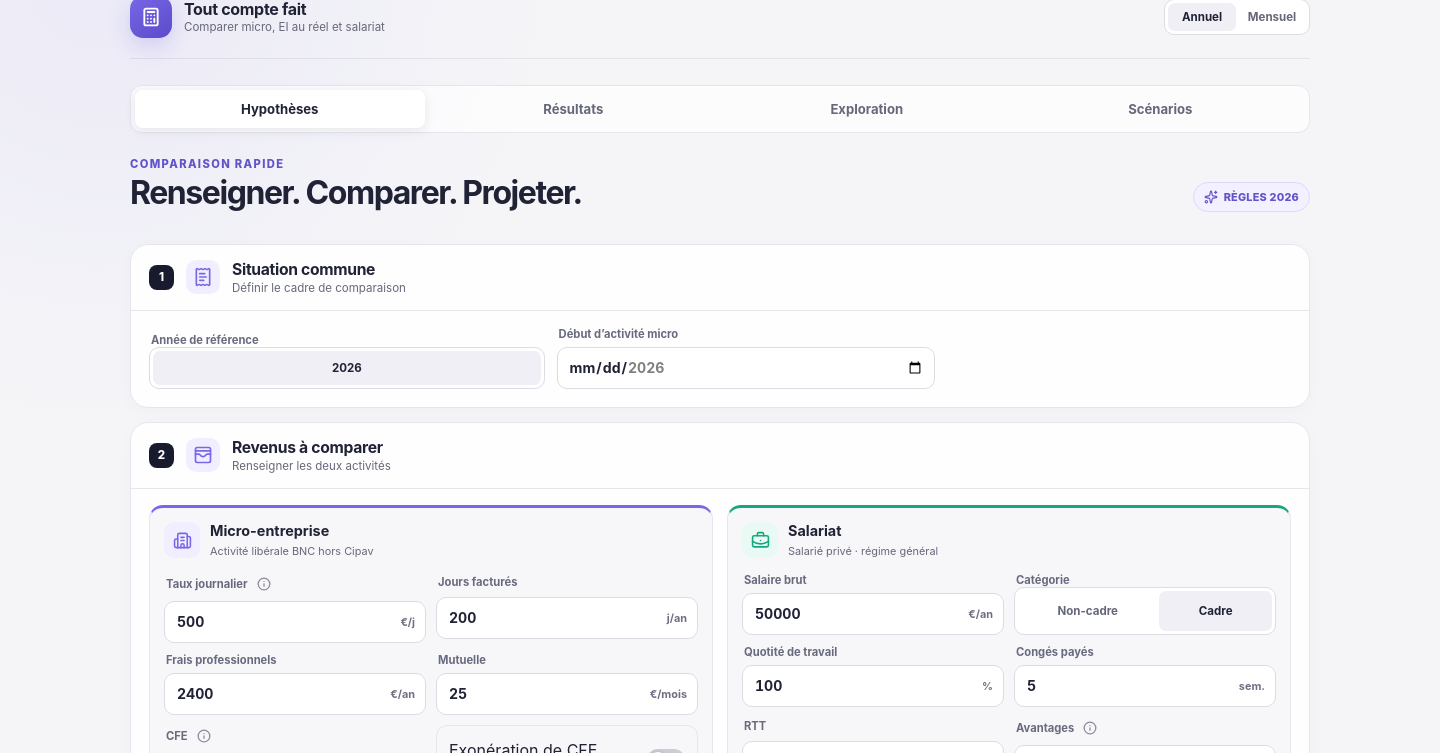
Test: Navigation guidée puis libre › ne substitue pas le dernier scénario valide à une saisie TJM sous-centime
Replace the text in the number field labelled "Taux journalier" with "0.001" at (285, 622), box [175, 612, 394, 631]
(page scrolled)
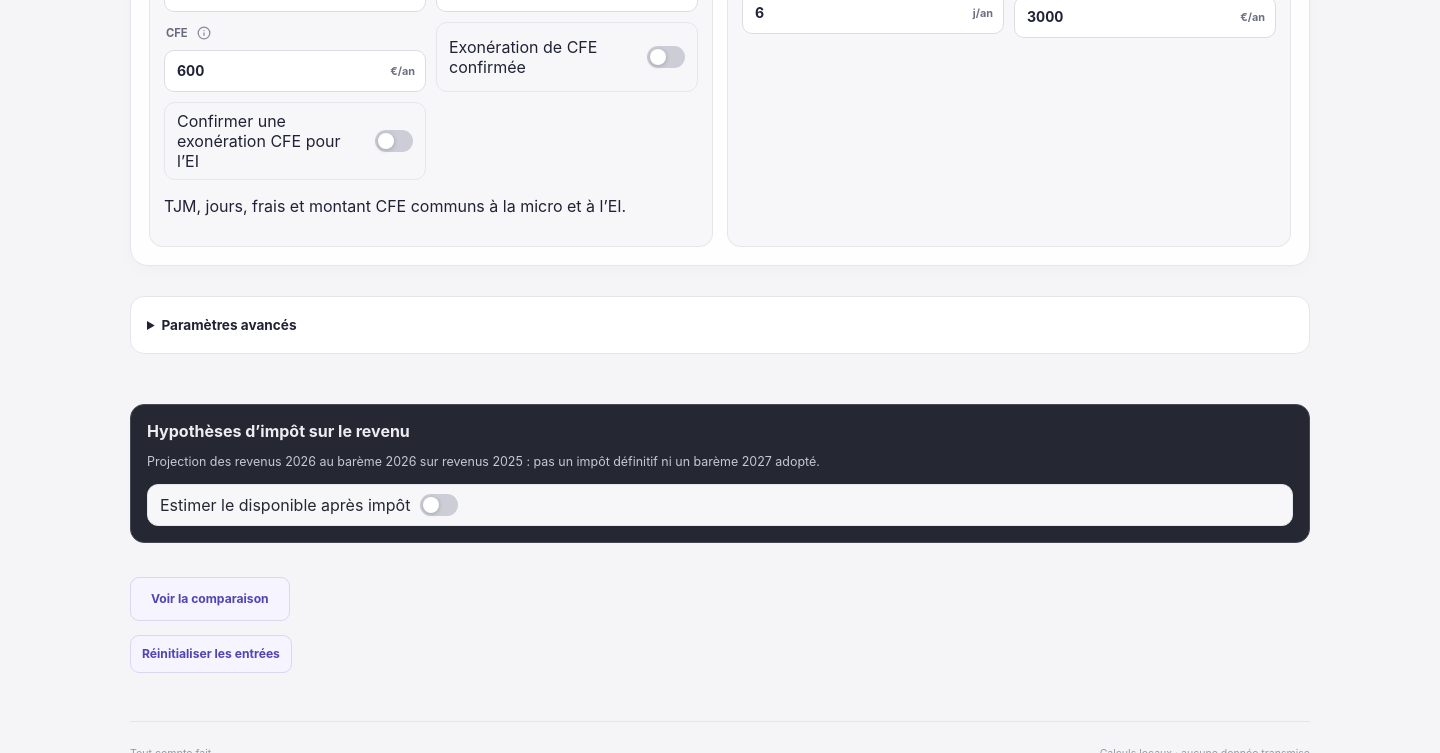
Click the button "Voir la comparaison" at (210, 599), box [130, 577, 290, 621]
(page scrolled)
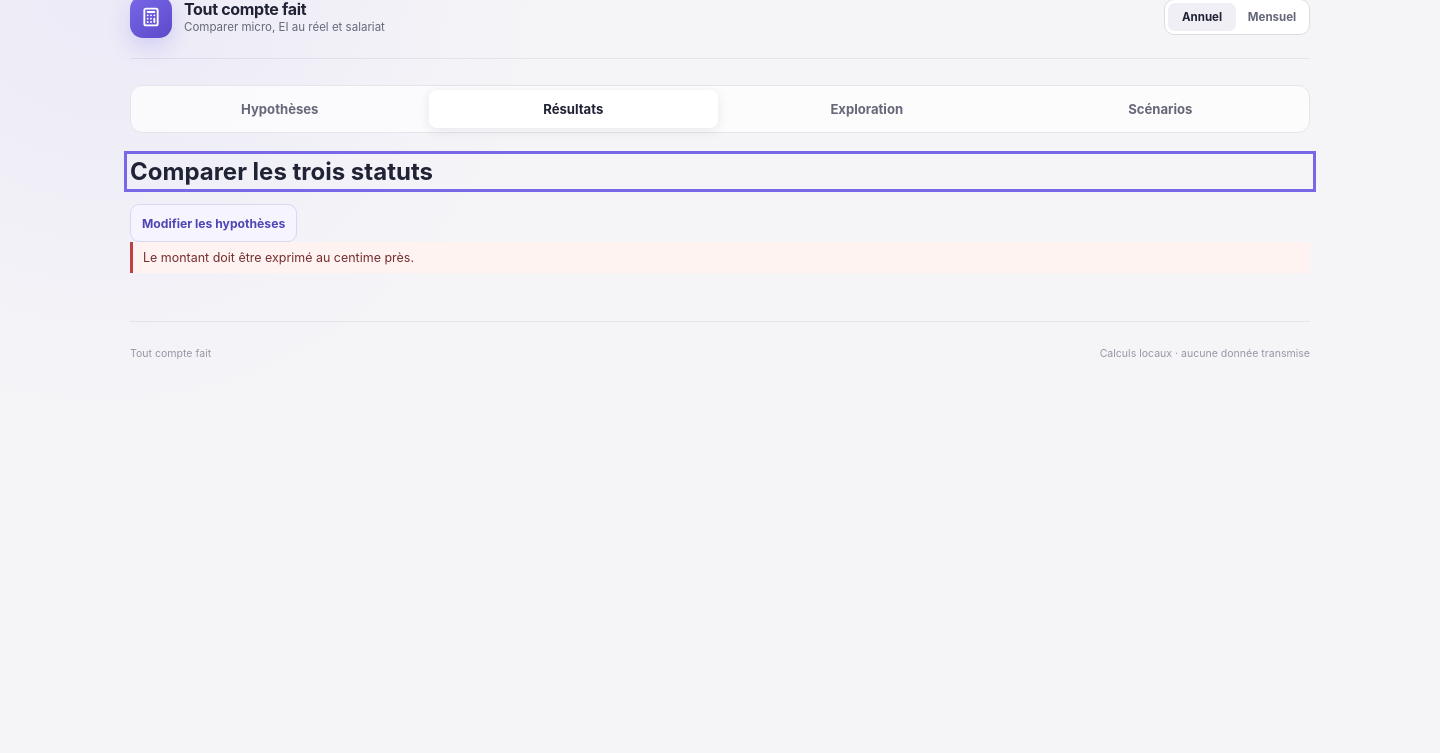
Expected: the element "Synthèse des trois statuts" is not shown
Result: the message shows "centime" at [143, 250, 414, 265]
Click the button "Modifier les hypothèses" at (214, 223), box [130, 204, 297, 242]
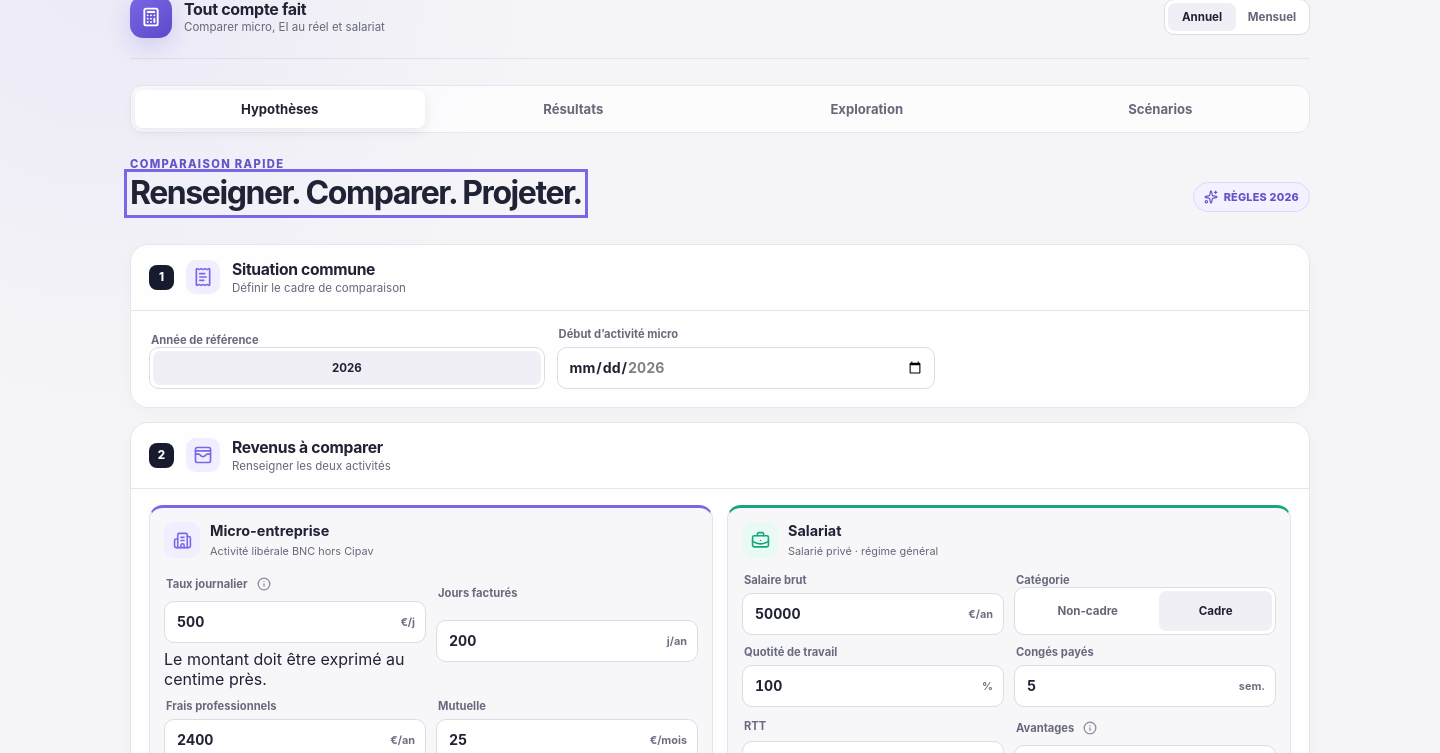
Replace the text in the number field labelled "Taux journalier" with "450" at (285, 622), box [175, 612, 394, 631]
(page scrolled)
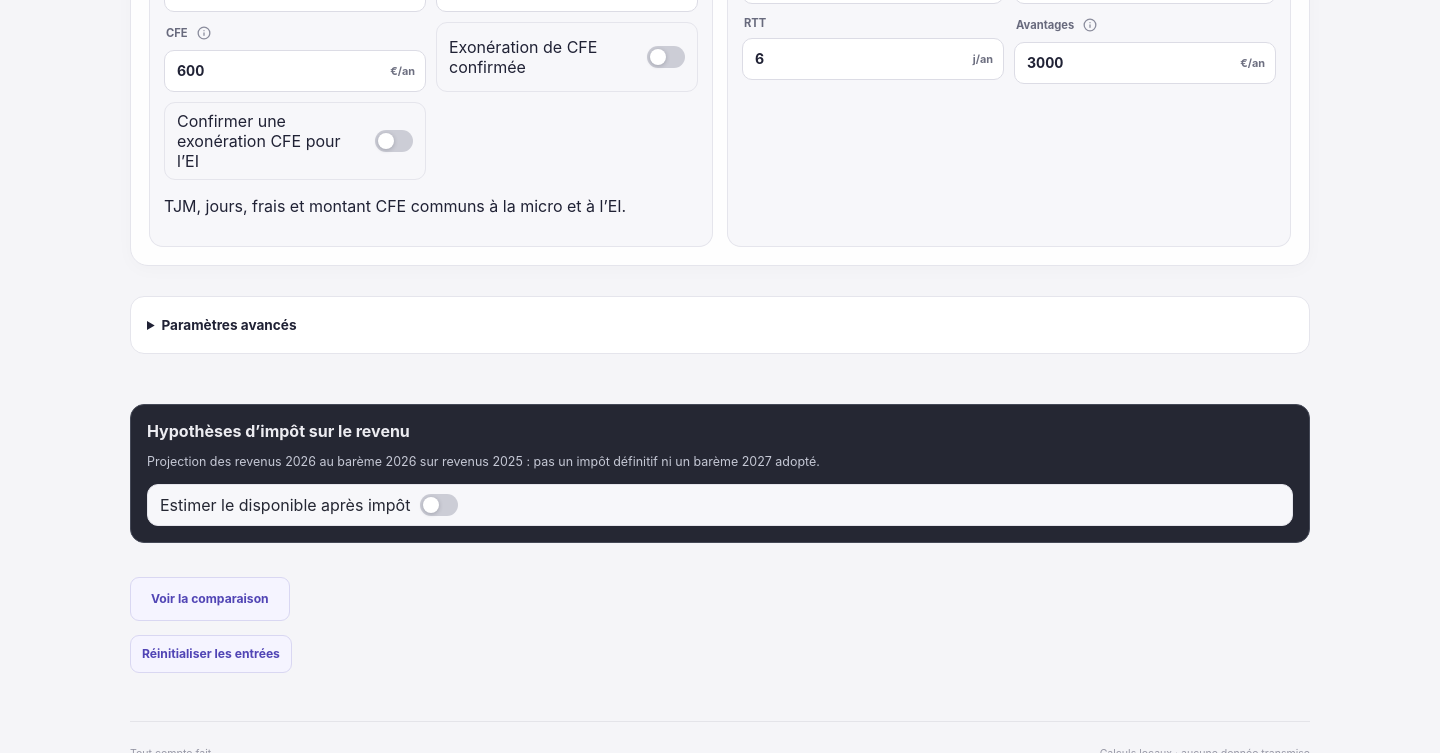
Click the button "Voir la comparaison" at (210, 599), box [130, 577, 290, 621]
(page scrolled)
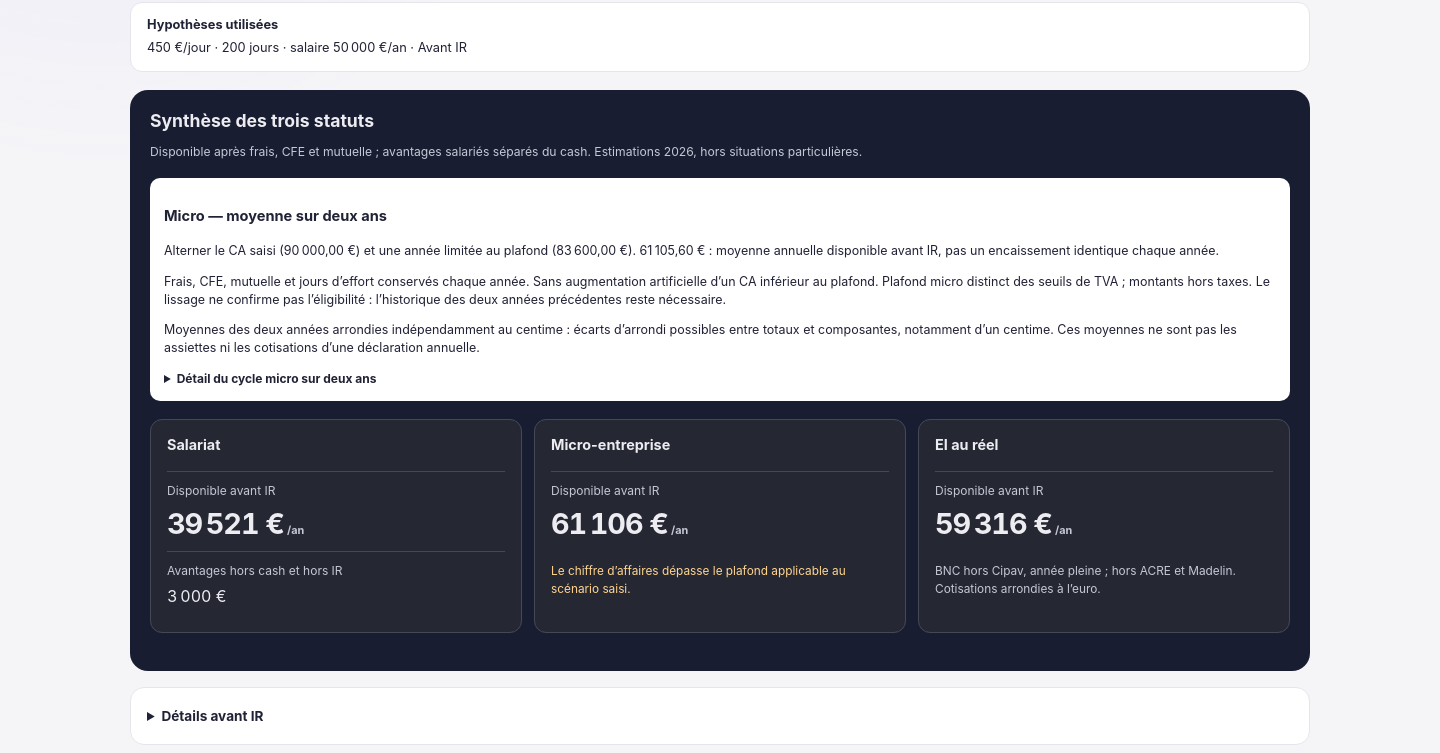
Result: the element "Synthèse des trois statuts" is shown
